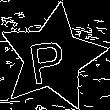P_N: (30, 30, 74, 86)
